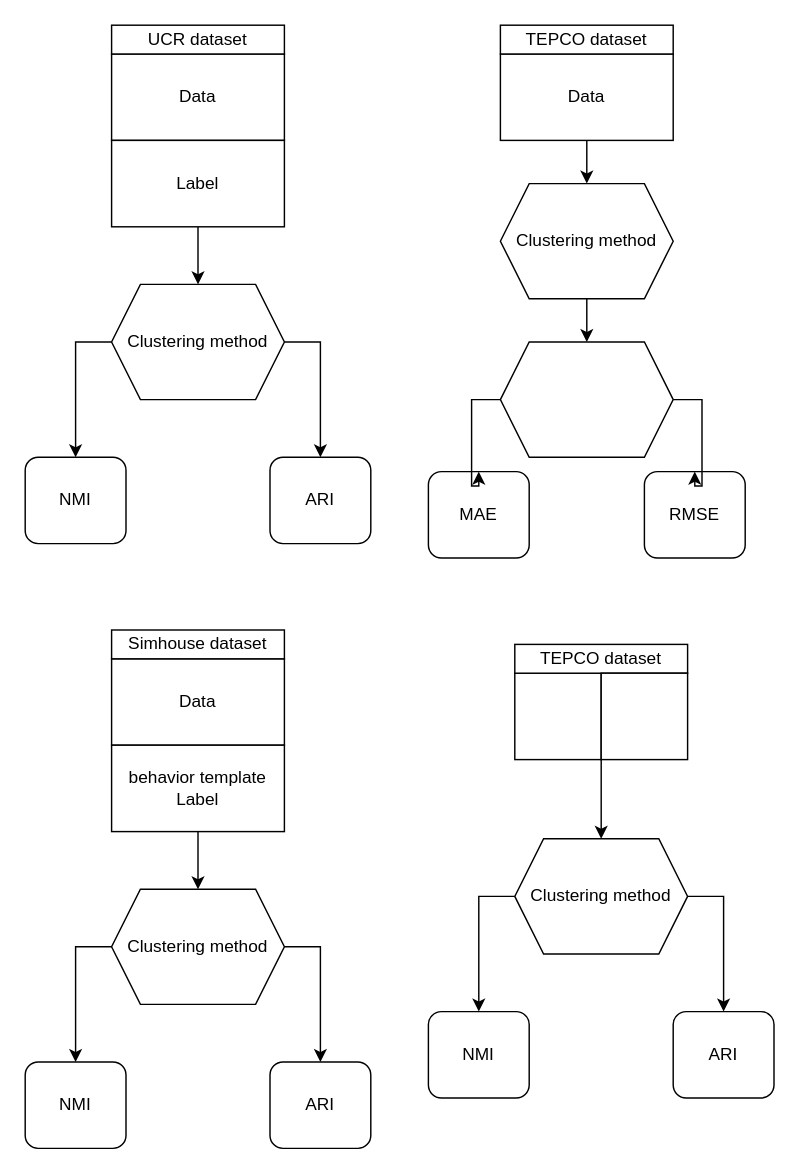
Some shapes in this 799 by 1174 pixel diagram are drawn without their labels. The centre of each missing label's shape, as x and y in pixels:
Power Data: (x=557, y=716)
st-gcn: (x=586, y=399)
Water Data: (x=644, y=716)
